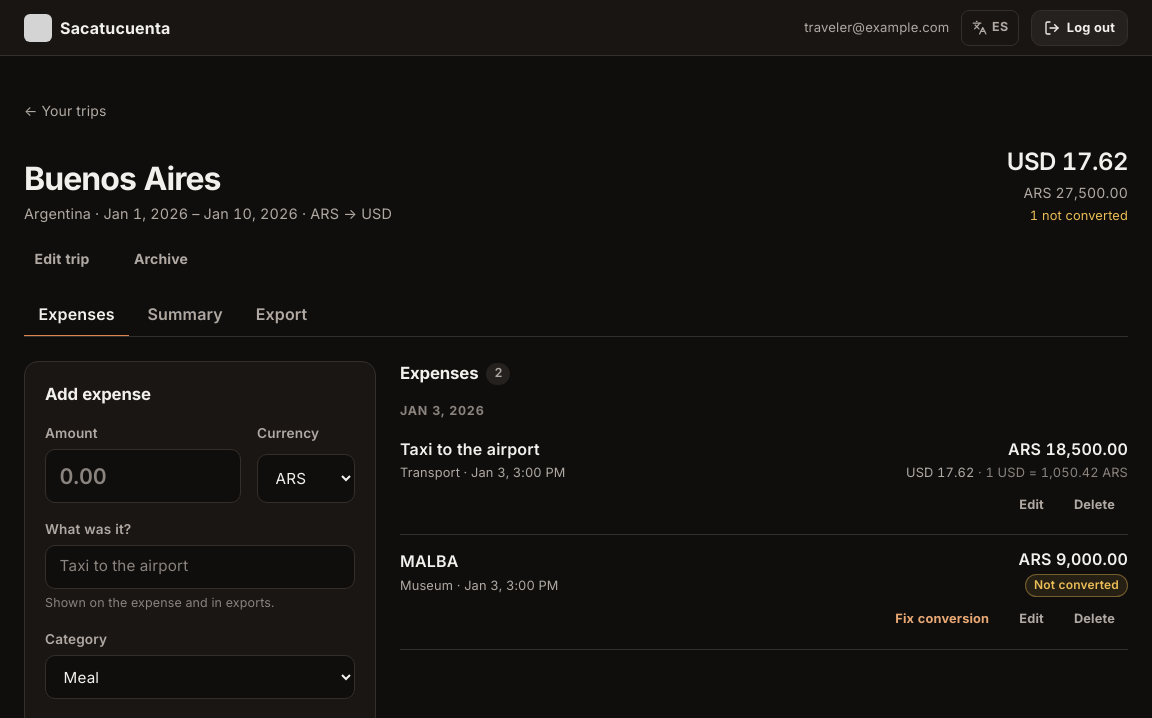
Test: trip view › retries the automatic rate and explains when there still is none
This screenshot has width=1152, height=718.
Click the button with aria-label "Fix conversion for MALBA" at x=942, y=619, box [882,601,1002,637]
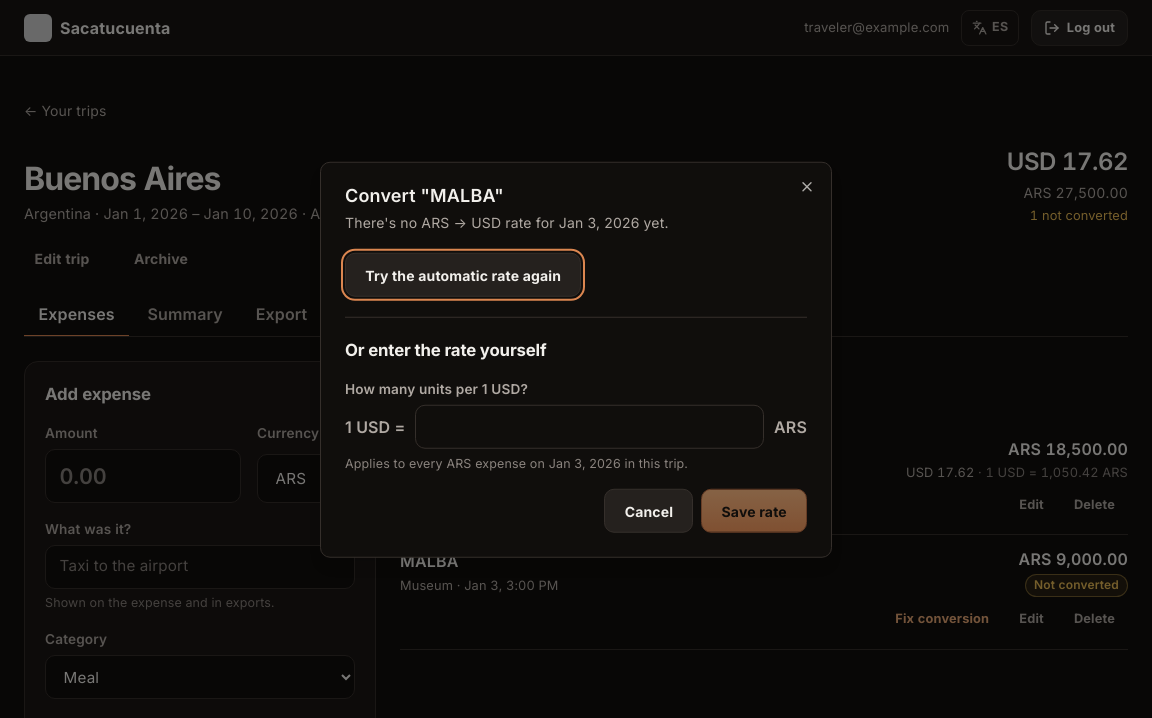
Click the button "Try the automatic rate again" at x=463, y=275, box [345,253,581,297]
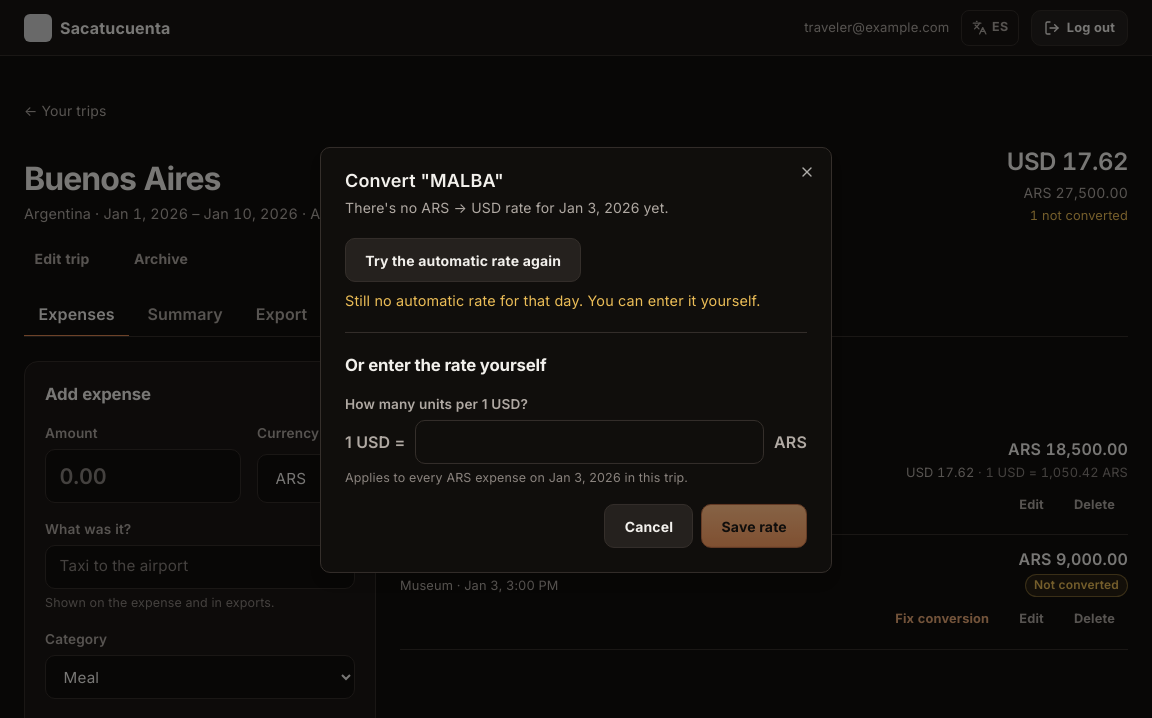
Expected: the text "Still no automatic rate for that day. You can enter it yourself." is shown, [345,290,761,312]
